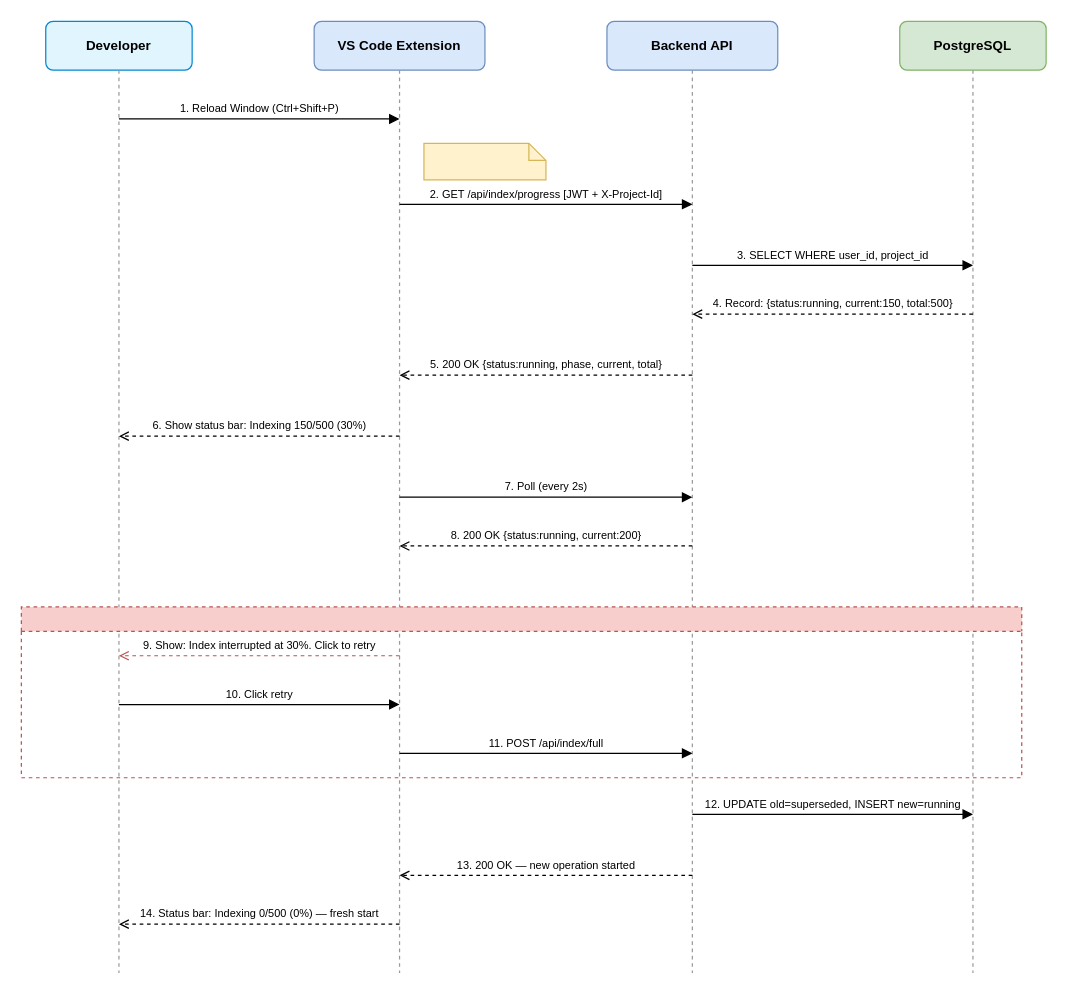
This 1068x996 diagram has some shape labels left out. Each missing label, with the centre of its shape:
"activate() fires" belongs at (484,161).
"ALT: status = interrupted" belongs at (521,692).
